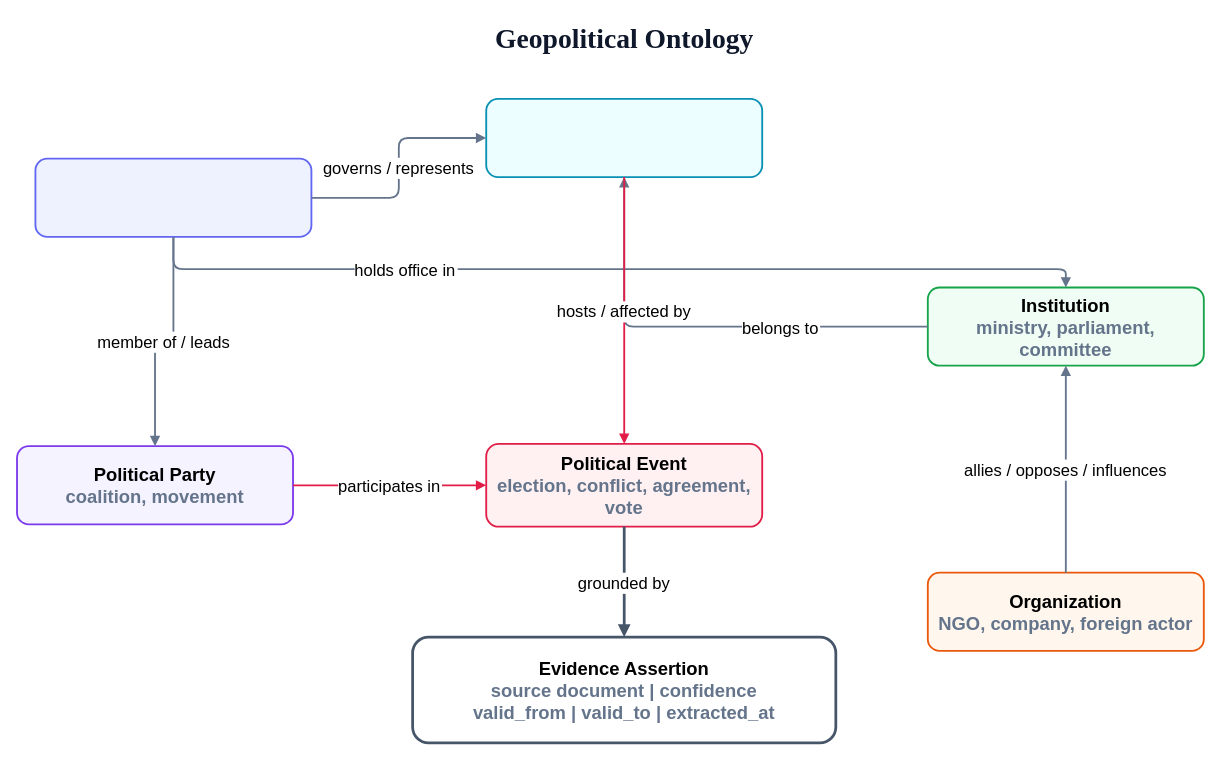
The diagram is 1220 pixels wide and 760 high, and some of its shapes have lost their labels. Each missing label, with the centre of its shape:
"Country state, region, territory" goes at [624,138].
"Politician office holder, candidate" goes at [173,197].
